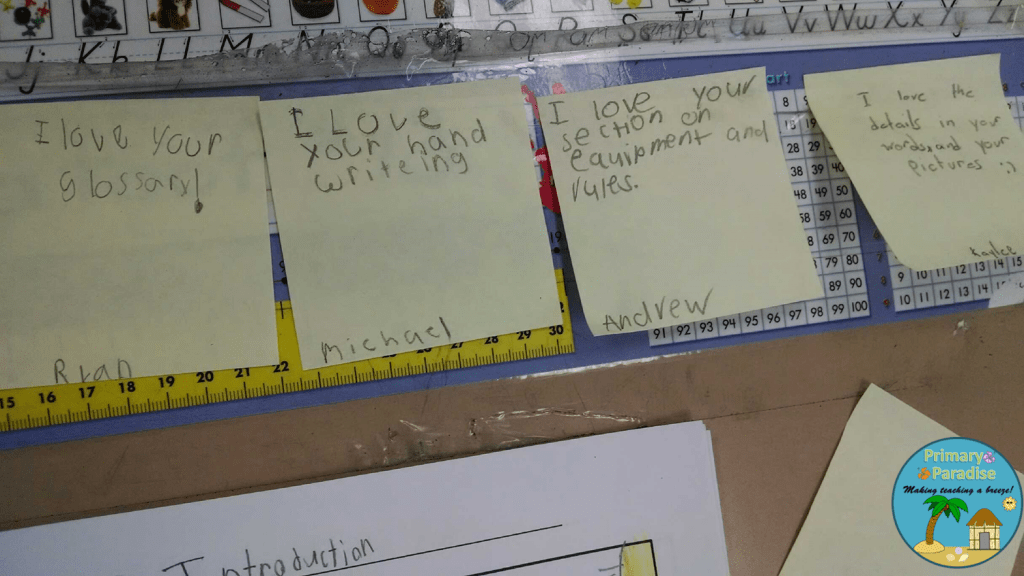Note: (264, 81, 571, 367), (4, 100, 282, 386), (543, 70, 829, 329), (805, 57, 1024, 273)
